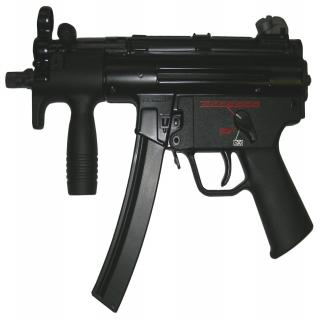gun: (3, 7, 315, 313)
